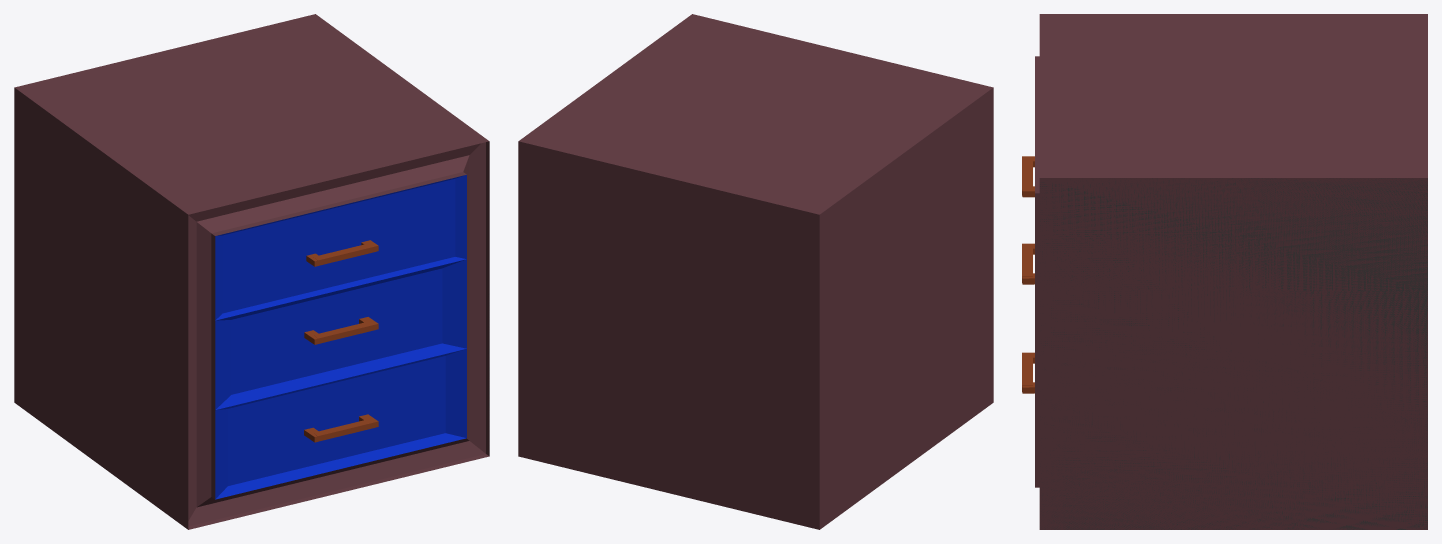
Rendered from storage.fbx.
3 renders of one model, left to right at view 1: azimuth 30°, elevation 25°; view 2: azimuth 150°, elevation 25°; view 3: azimuth 270°, elevation 25°, orthographic. The views are drawn at different scales.
Visible parts, largest first — view 1: Cube, Cube.001, Cube.004, Cube.007; view 2: Cube; view 3: Cube.
Part boxes in pixels (x1,y1,x2,y2): Cube: (14, 14, 489, 529); Cube.001: (313, 321, 375, 343); Cube.004: (313, 243, 375, 265); Cube.007: (313, 418, 375, 441); Cube: (518, 14, 993, 529); Cube: (1035, 14, 1427, 529).
Size of the model in its own units: 200 by 200 by 209.
